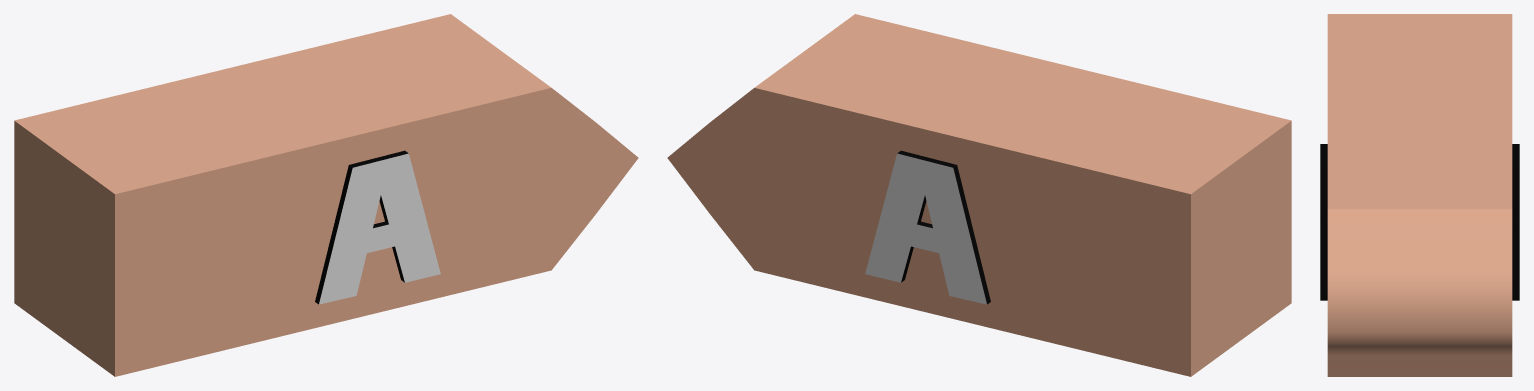
3 views of the same model, side by side, from view 1: azimuth 30°, elevation 25°; view 2: azimuth 150°, elevation 25°; view 3: azimuth 270°, elevation 25° (orthographic). The views are drawn at different scales.
Parts seen in each view (by area): view 1: pCube6; view 2: pCube6; view 3: pCube6.
Part boxes in pixels (x1,y1,x2,y2): pCube6: (14, 14, 638, 376); pCube6: (667, 14, 1291, 376); pCube6: (1320, 14, 1519, 376).
Size of the model in its own units: 3 by 1 by 1.08.
